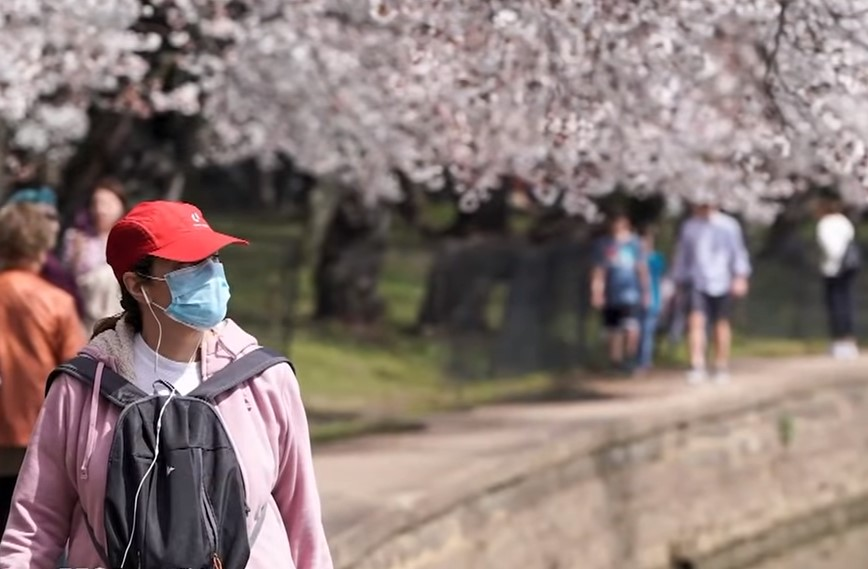face_with_mask: (108, 203, 247, 333)
